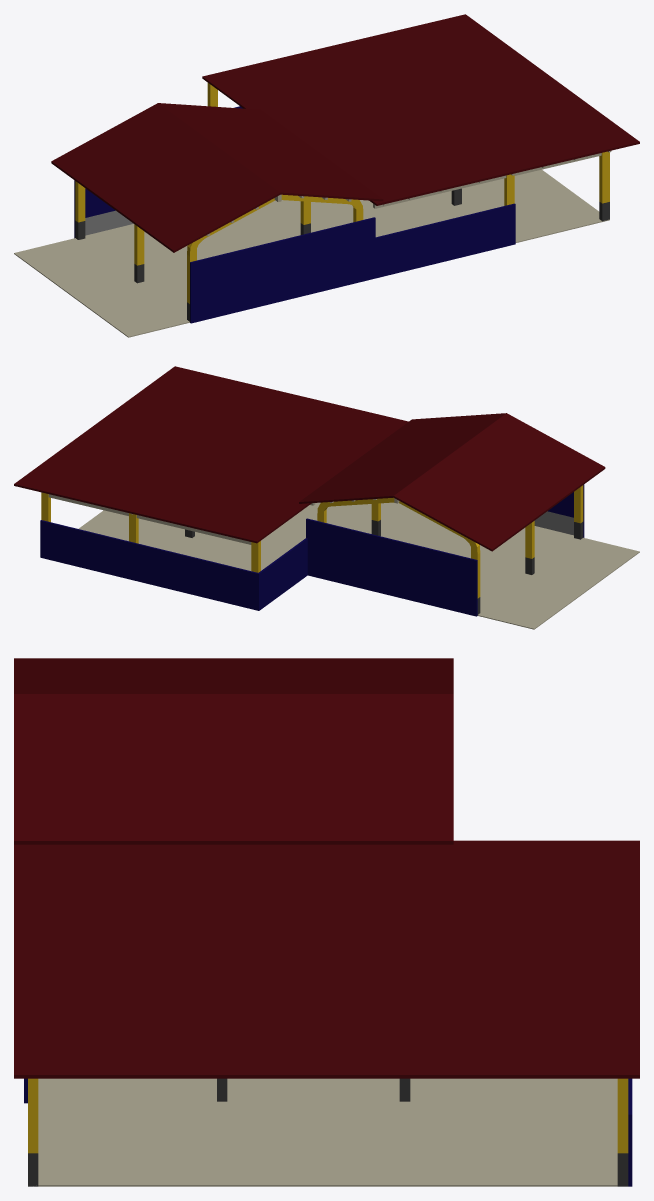
Rendered from MESH_ENV_Centro_de_Reciclagem.fbx.
The picture shows the model from 3 angles, top to bottom: view 1: azimuth 30°, elevation 25°; view 2: azimuth 150°, elevation 25°; view 3: azimuth 270°, elevation 25°; orthographic projection. The views are drawn at different scales.
Parts seen in each view (by area): view 1: Centro_de_Reciclagem; view 2: Centro_de_Reciclagem; view 3: Centro_de_Reciclagem.
Part boxes in pixels (x1,y1,x2,y2): Centro_de_Reciclagem: (14, 14, 639, 337); Centro_de_Reciclagem: (14, 366, 639, 629); Centro_de_Reciclagem: (14, 658, 639, 1186).
Bounding box in the file's own units: 5957 × 1254 × 3543.
